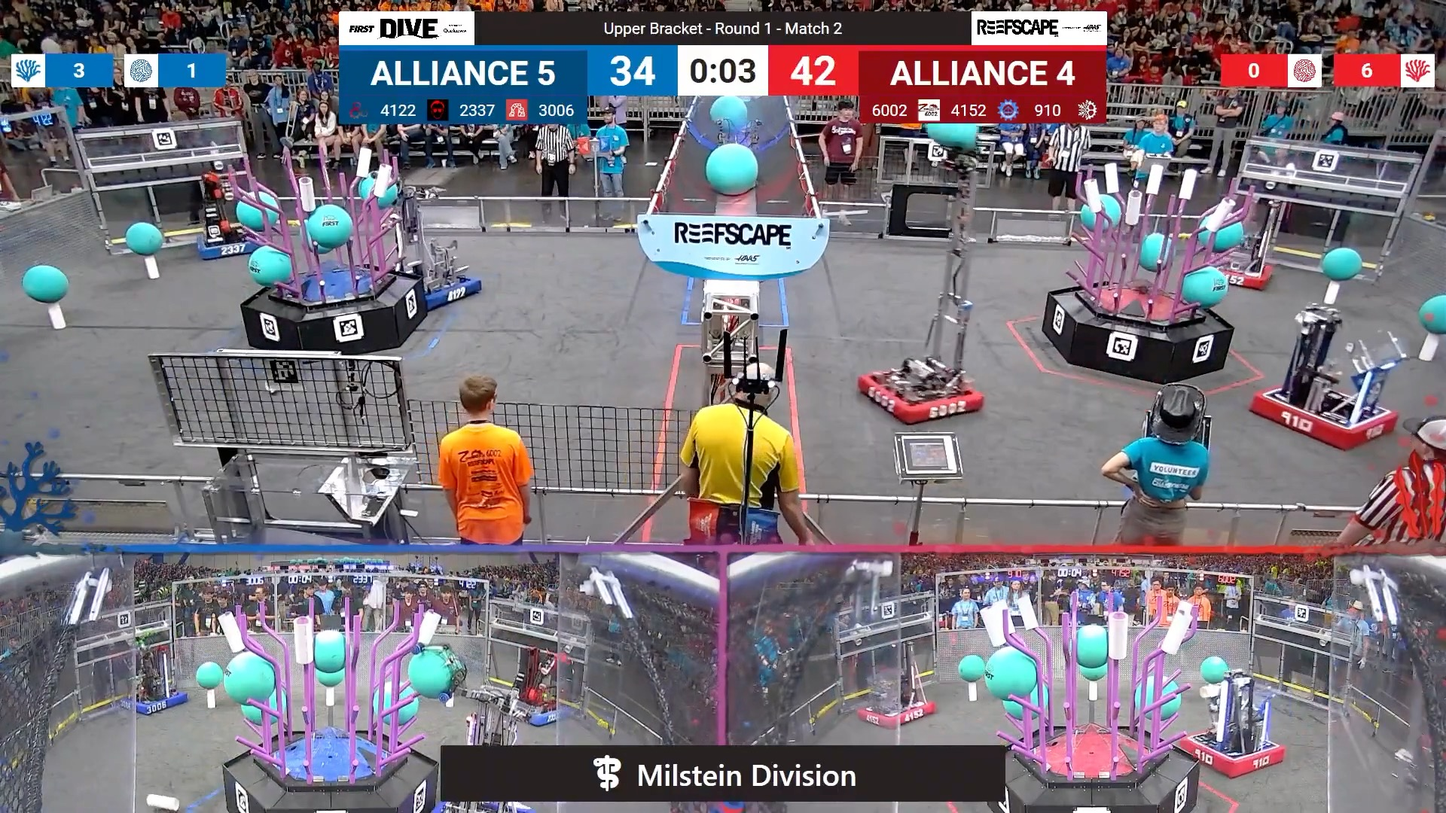bumpers: (1243, 382, 1401, 452), (853, 362, 992, 427), (1176, 731, 1291, 778), (395, 261, 490, 315), (189, 225, 273, 264), (852, 694, 939, 728), (1202, 259, 1280, 292), (505, 696, 575, 729), (117, 687, 191, 718)
